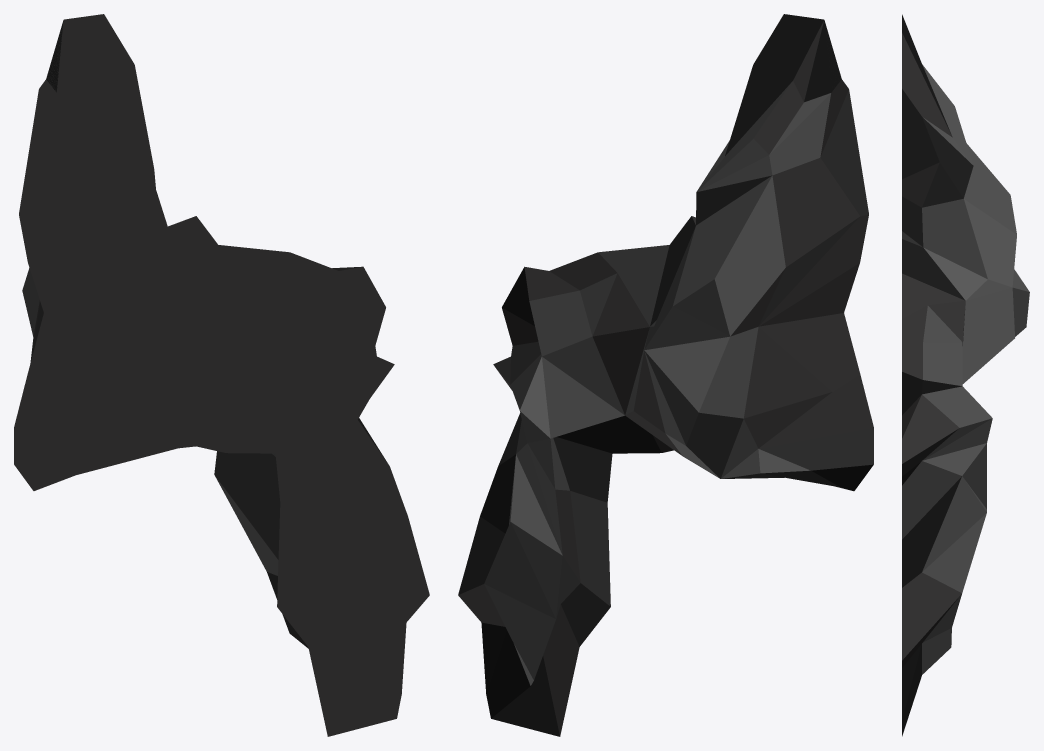
Rendered from vol_mountain_2.fbx.
3 renders of one model, left to right at view 1: azimuth 30°, elevation 25°; view 2: azimuth 150°, elevation 25°; view 3: azimuth 270°, elevation 25°, orthographic. The views are drawn at different scales.
Visible parts, largest first — view 1: desert_middle_mountain_1.002; view 2: desert_middle_mountain_1.002; view 3: desert_middle_mountain_1.002.
Part boxes in pixels (bbox=[...]): desert_middle_mountain_1.002: bbox=[14, 14, 429, 736]; desert_middle_mountain_1.002: bbox=[458, 14, 873, 736]; desert_middle_mountain_1.002: bbox=[902, 14, 1029, 736].
Size of the model in its own units: 586 by 1054 by 204.
